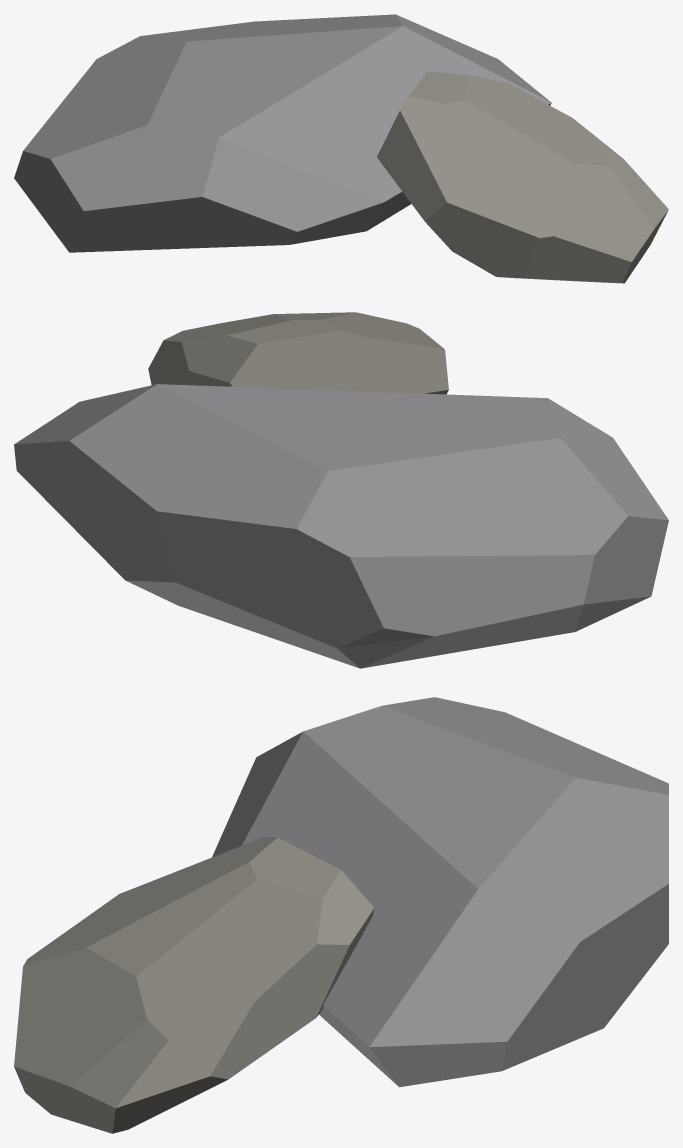
File: Rocks_Round_l_01.fbx
3 renders of one model, top to bottom at view 1: azimuth 30°, elevation 25°; view 2: azimuth 150°, elevation 25°; view 3: azimuth 270°, elevation 25°, orthographic. The views are drawn at different scales.
Visible parts, largest first — view 1: Rocks_Round_l_01; view 2: Rocks_Round_l_01; view 3: Rocks_Round_l_01.
Boxes of the visible parts, left/top/right/bottom form: Rocks_Round_l_01: left=14, top=14, right=668, bottom=283; Rocks_Round_l_01: left=14, top=312, right=668, bottom=668; Rocks_Round_l_01: left=14, top=697, right=668, bottom=1133.
Bounding box in the file's own units: 325 × 96.66 × 291.
